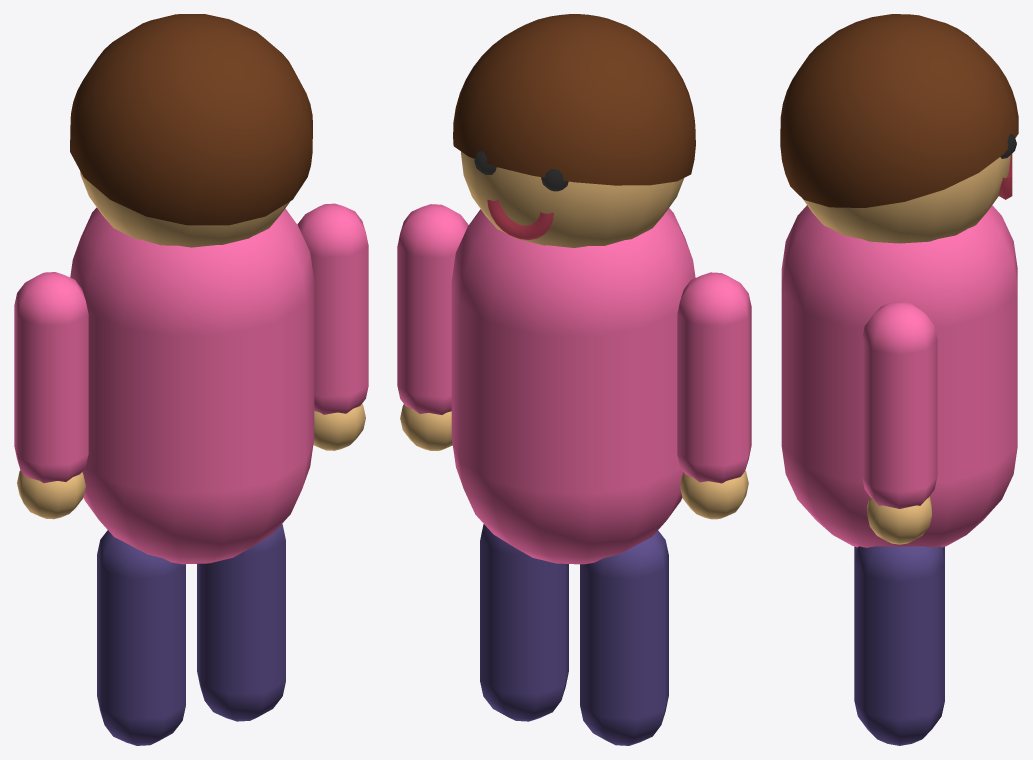
File: hair-short.glb
The picture shows the model from 3 angles, left to right: view 1: azimuth 30°, elevation 25°; view 2: azimuth 150°, elevation 25°; view 3: azimuth 270°, elevation 25°; orthographic projection.
Visible parts, largest first — view 1: torso, head, armL, legL, legR, armR; view 2: torso, head, armL, legL, legR, armR; view 3: torso, head, legR, armR.
Boxes of the visible parts, <box> form: torso: <box>70,207,314,564</box>; head: <box>70,14,312,247</box>; armL: <box>14,272,88,519</box>; legL: <box>97,530,185,745</box>; legR: <box>197,524,285,721</box>; armR: <box>297,203,368,450</box>; torso: <box>451,208,695,564</box>; head: <box>453,14,695,247</box>; armL: <box>677,272,751,519</box>; legL: <box>580,530,668,745</box>; legR: <box>480,524,568,721</box>; armR: <box>397,204,468,450</box>; torso: <box>781,205,1017,547</box>; head: <box>780,14,1018,243</box>; legR: <box>854,546,944,745</box>; armR: <box>862,301,937,544</box>.
Size of the model in its own units: 1.04 by 2.02 by 0.6291.
